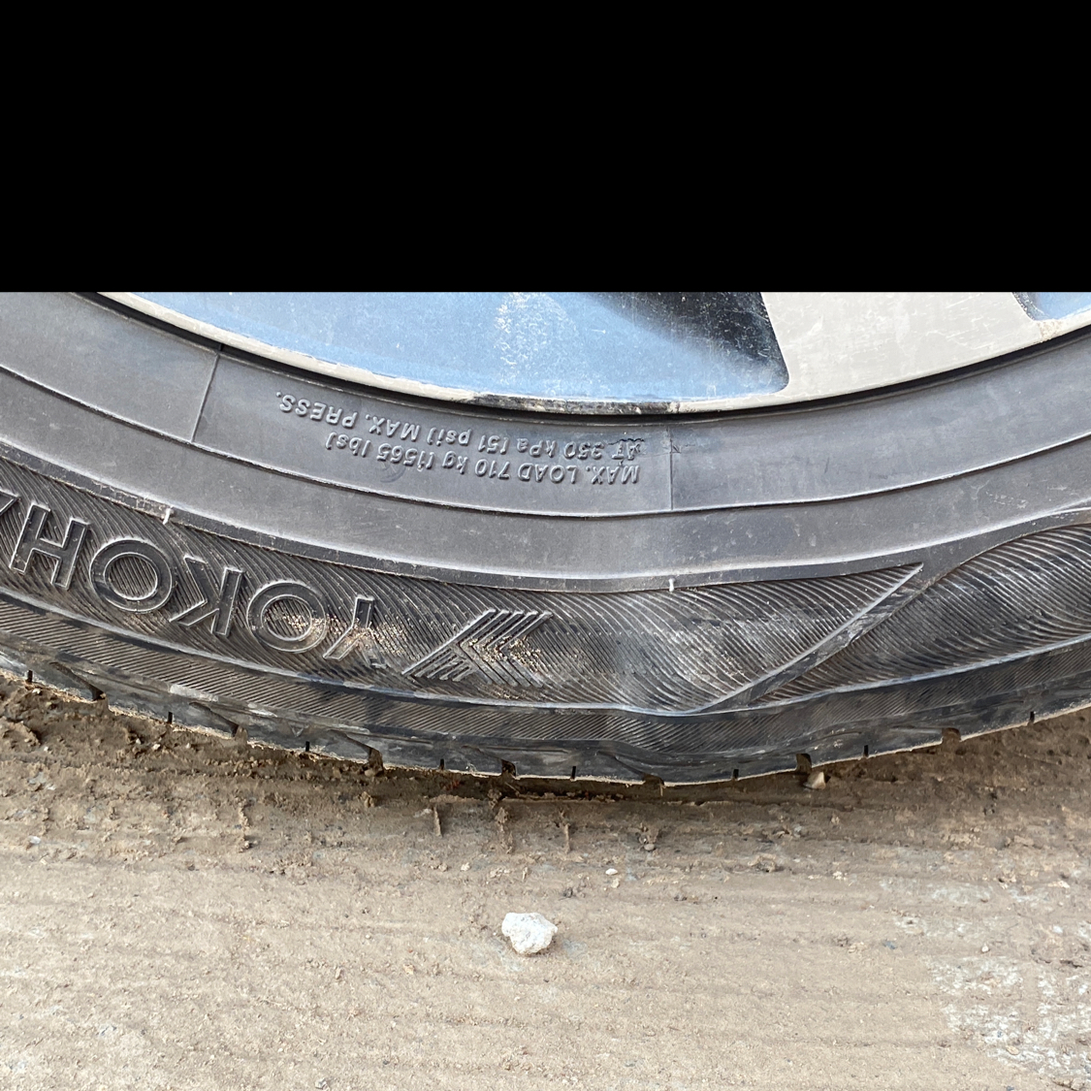CBU: (612, 575, 762, 787)
